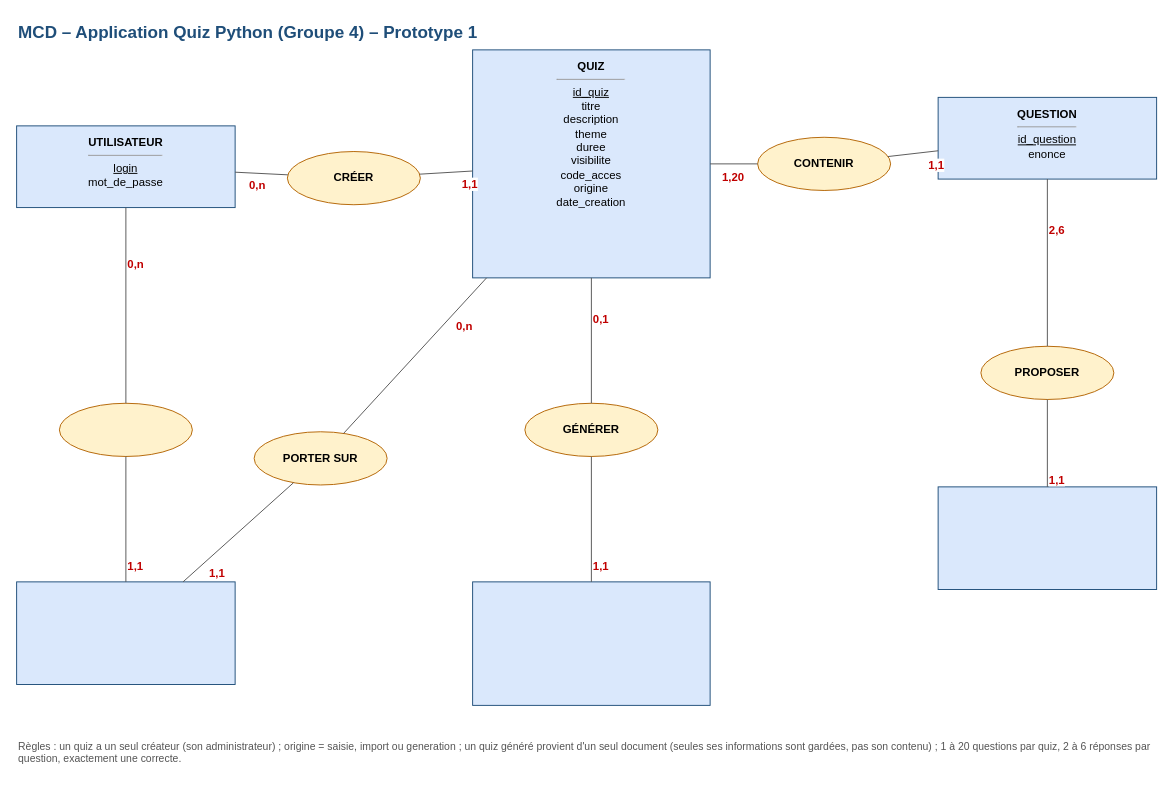
Image size: 1173x788. Some labels were removed from this diagram. The shapes that lost their labels are listed below. From the top down, each one's box as (x1, y1, x2, y2) in pixels, then its label:
(58, 402, 192, 456): EFFECTUER
(937, 486, 1157, 589): REPONSE id_reponse texte est_correcte
(16, 581, 235, 684): TENTATIVE id_tentative score date_tentative
(472, 581, 710, 705): DOCUMENT id_document nom_fichier format date_envoi
